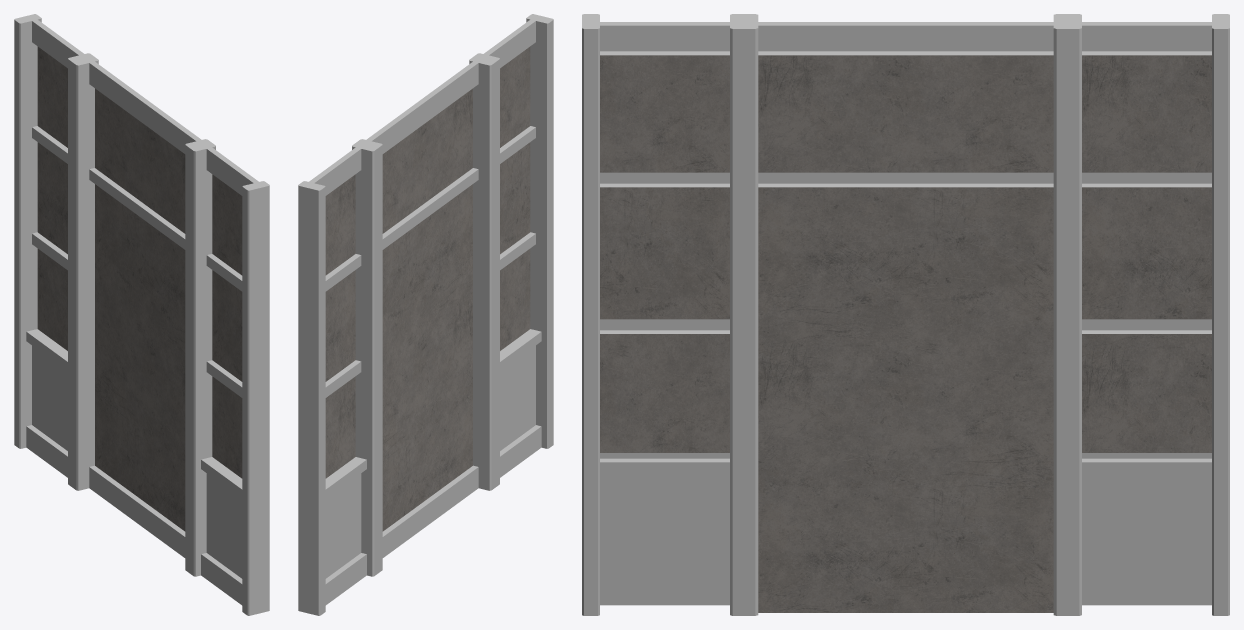
The model's file is Wall 3 2m.fbx.
3 renders of one model, left to right at view 1: azimuth 30°, elevation 25°; view 2: azimuth 150°, elevation 25°; view 3: azimuth 270°, elevation 25°, orthographic. The views are drawn at different scales.
Parts seen in each view (by area): view 1: Wall_3_2m; view 2: Wall_3_2m; view 3: Wall_3_2m.
Boxes of the visible parts, x1,y1,x2,y2 form: Wall_3_2m: (14,14,269,615); Wall_3_2m: (298,14,553,615); Wall_3_2m: (582,14,1229,615).
Bounding box in the file's own units: 10.93 × 200 × 200.
